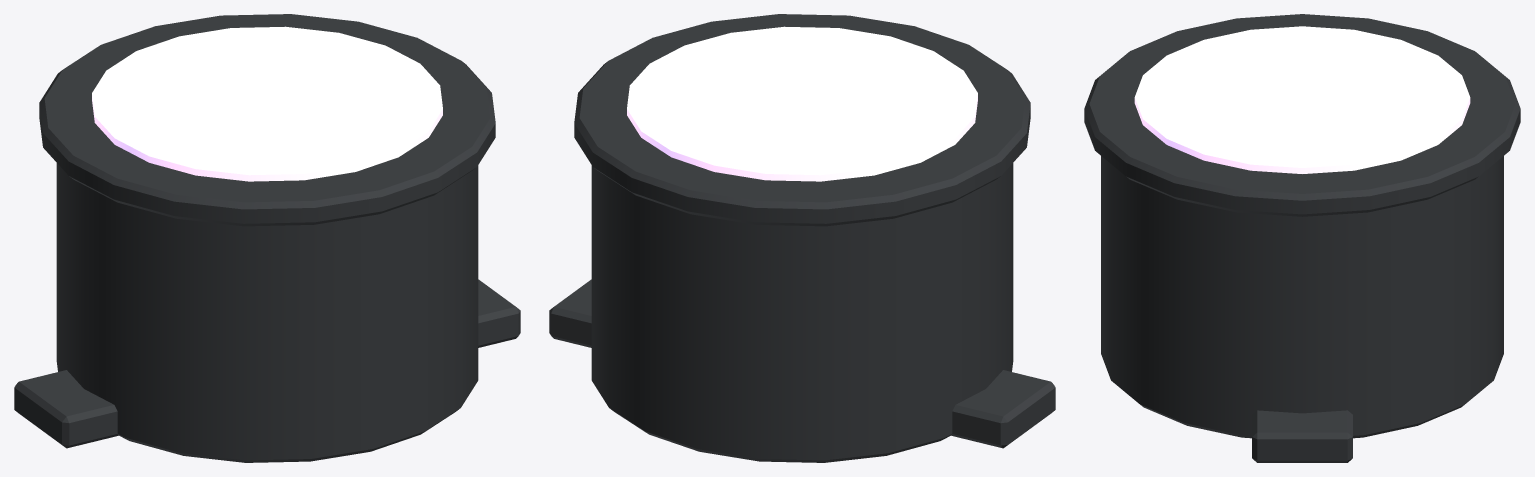
Rendered from prop_uplight_lilac.glb.
3 renders of one model, left to right at view 1: azimuth 30°, elevation 25°; view 2: azimuth 150°, elevation 25°; view 3: azimuth 270°, elevation 25°, orthographic. The views are drawn at different scales.
Parts seen in each view (by area): view 1: Uplight; view 2: Uplight; view 3: Uplight.
Boxes of the visible parts, x1,y1,x2,y2 form: Uplight: (14,14,520,462); Uplight: (549,14,1055,462); Uplight: (1084,14,1520,462).
Bounding box in the file's own units: 0.3 × 0.172 × 0.26.
